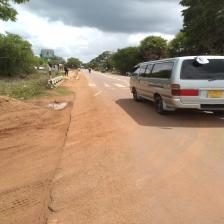blueboard: (42, 48, 54, 59)
crossing: (88, 75, 128, 95)
